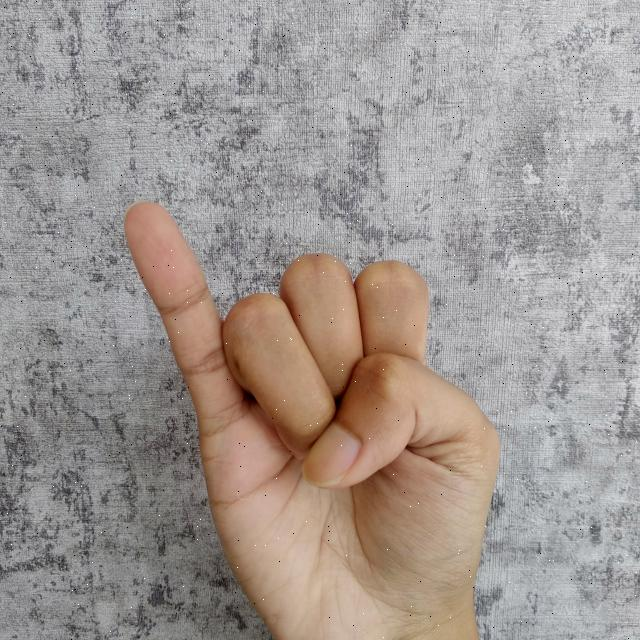I: (120, 195, 509, 640)
